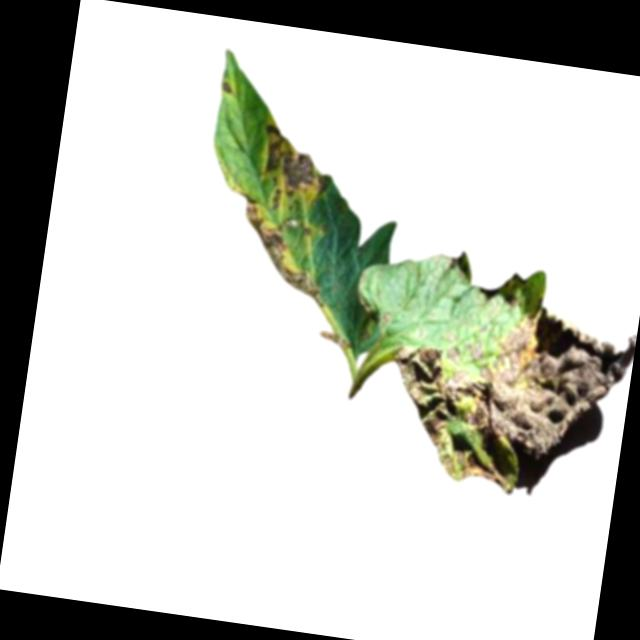Early_blight: (371, 283, 639, 509), (229, 197, 335, 303), (253, 122, 336, 209), (219, 80, 234, 94)
